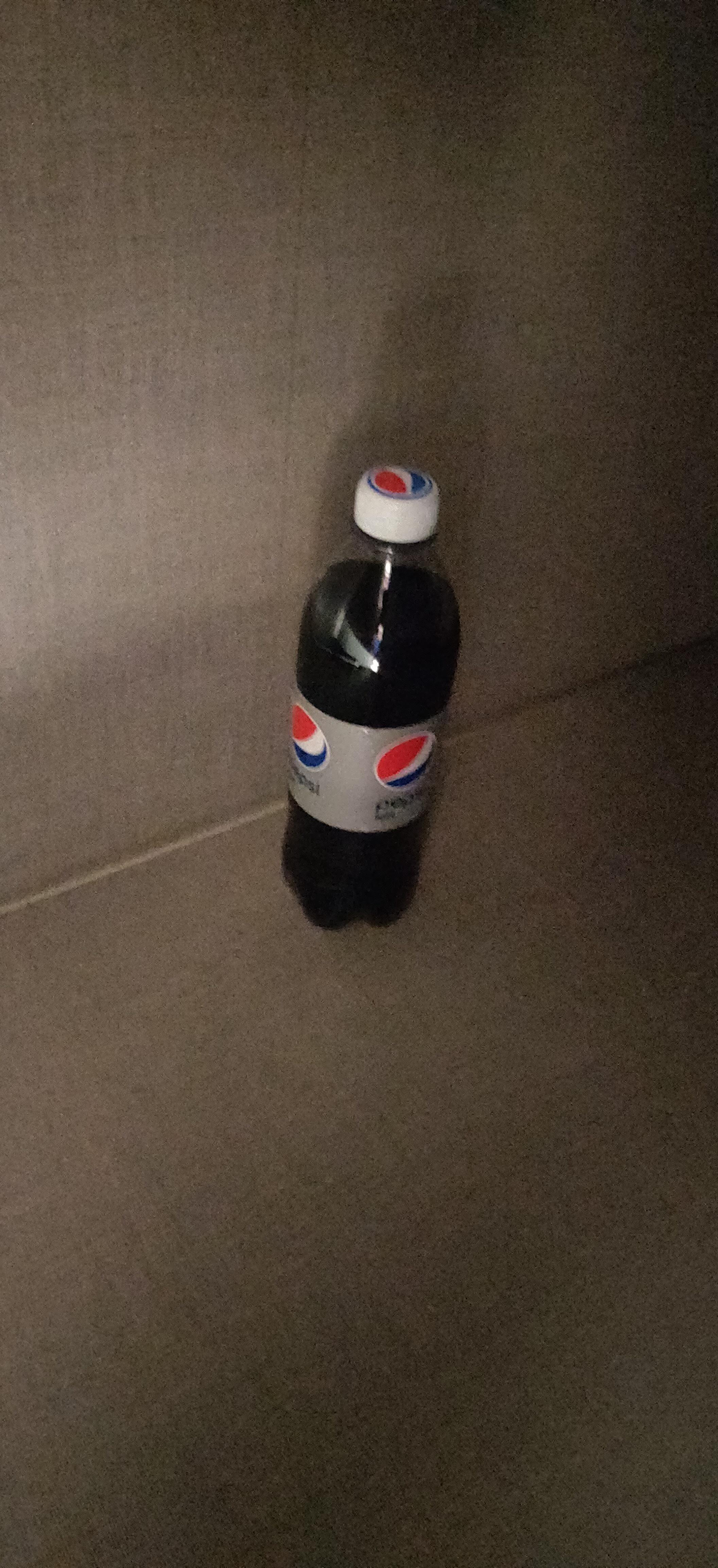bottle-plastic: (278, 460, 466, 932)
